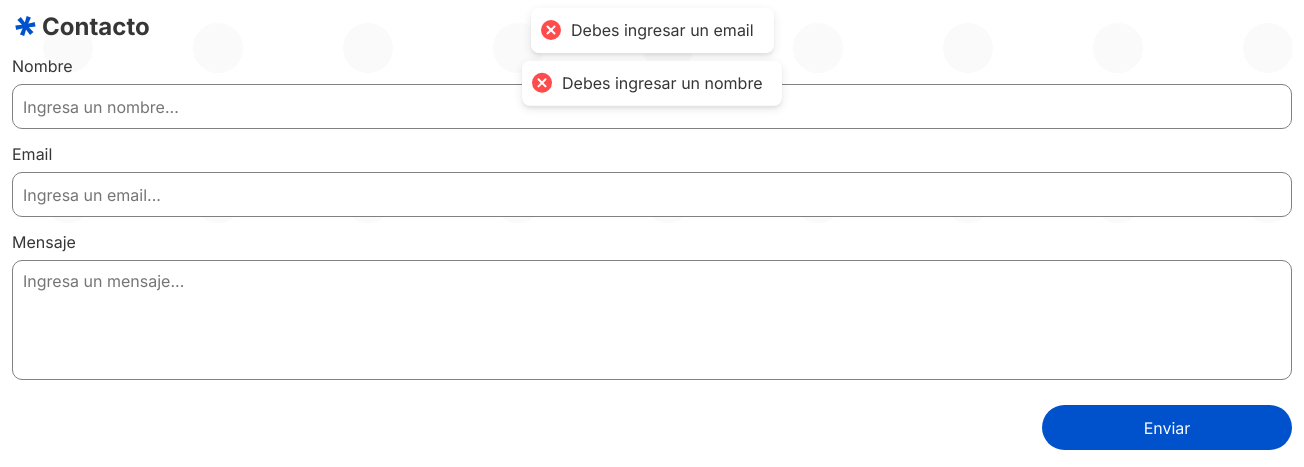
Contact form component › shows a message error
Type "Nombre" into the field with placeholder "Ingresa un nombre..." at (652, 106), box 12,84 -> 1292,129
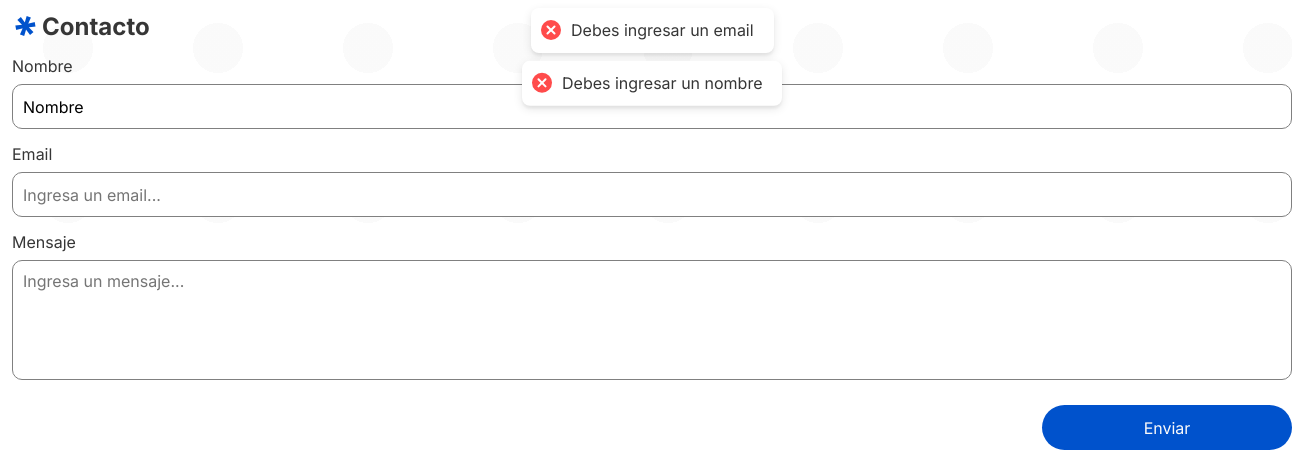
Type "email@test.com" into the field with placeholder "Ingresa un email..." at (652, 194), box 12,172 -> 1292,217
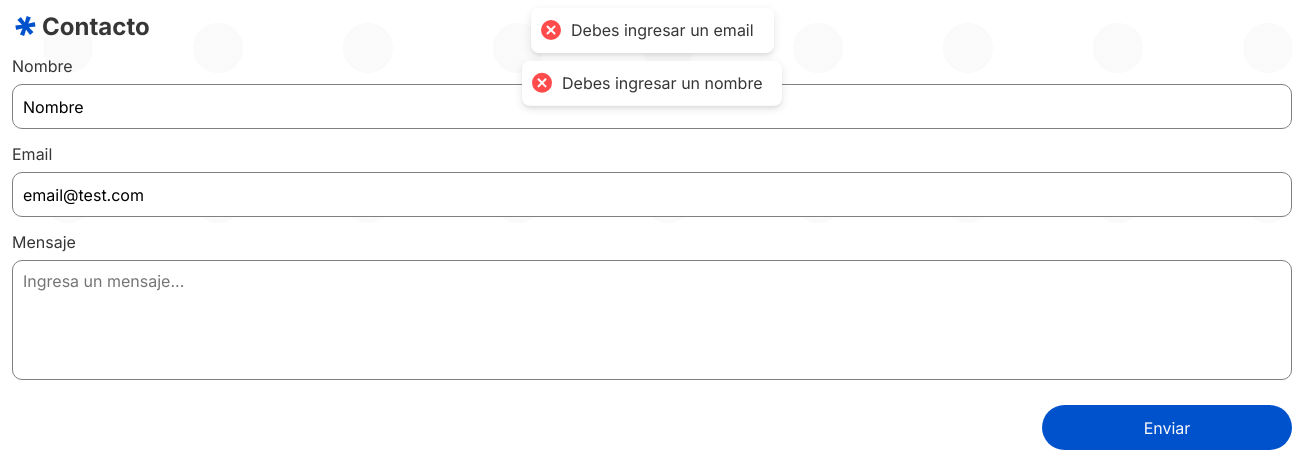
Click the button at (1167, 428), box 1042,405 -> 1292,450
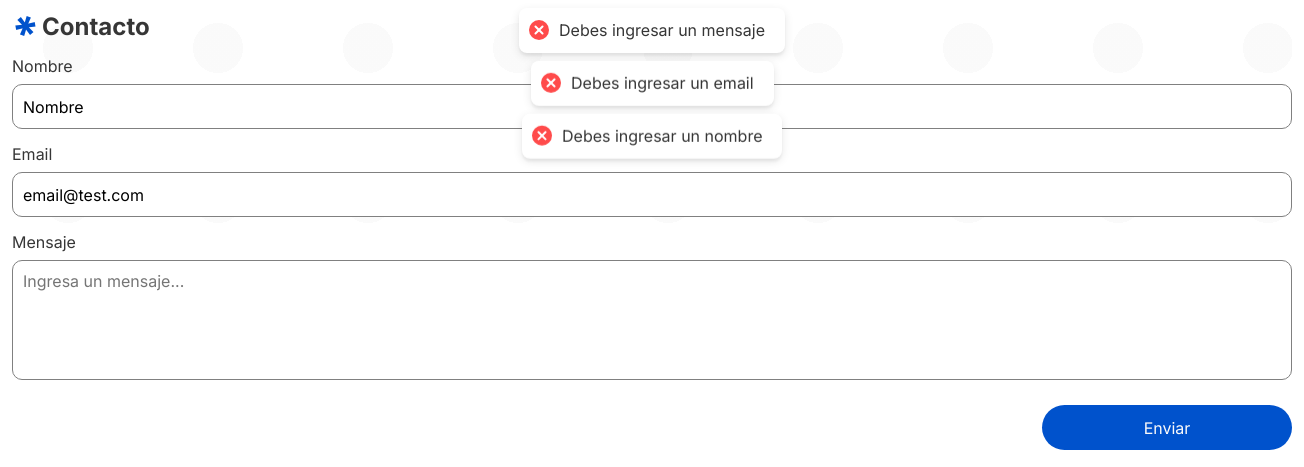
Expected: the text "Debes ingresar un mensaje" is shown, 559,20 -> 765,41
